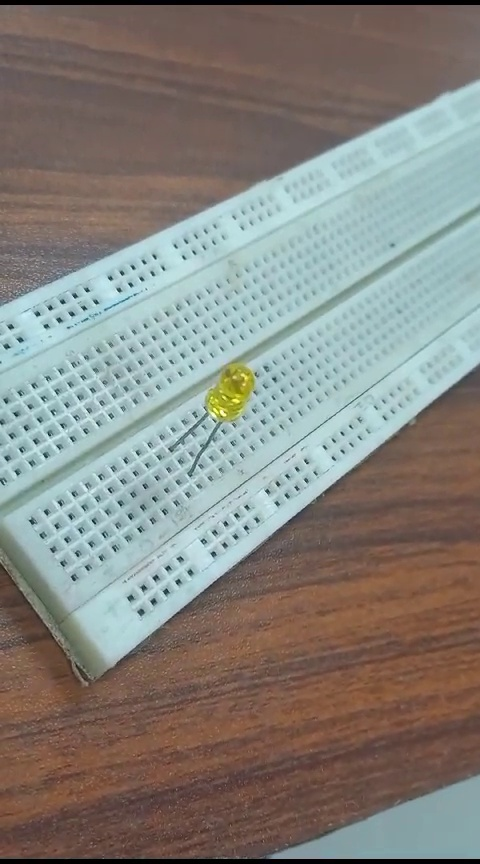LED: (180, 357, 256, 481)
